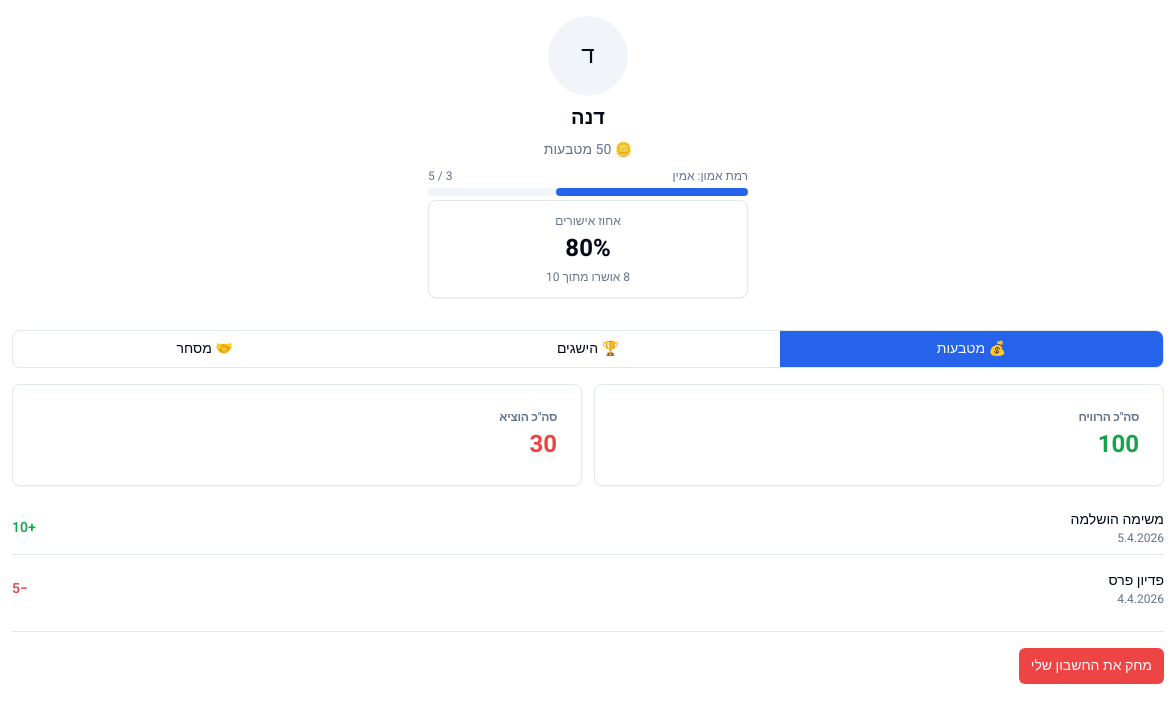
Test: ProfilePage › shows achievements summary when achievements tab clicked
The width and height of the screenshot is (1176, 720).
Step 1. Click the tab "🏆 הישגים" → (588, 349), box 396,331 -> 780,367
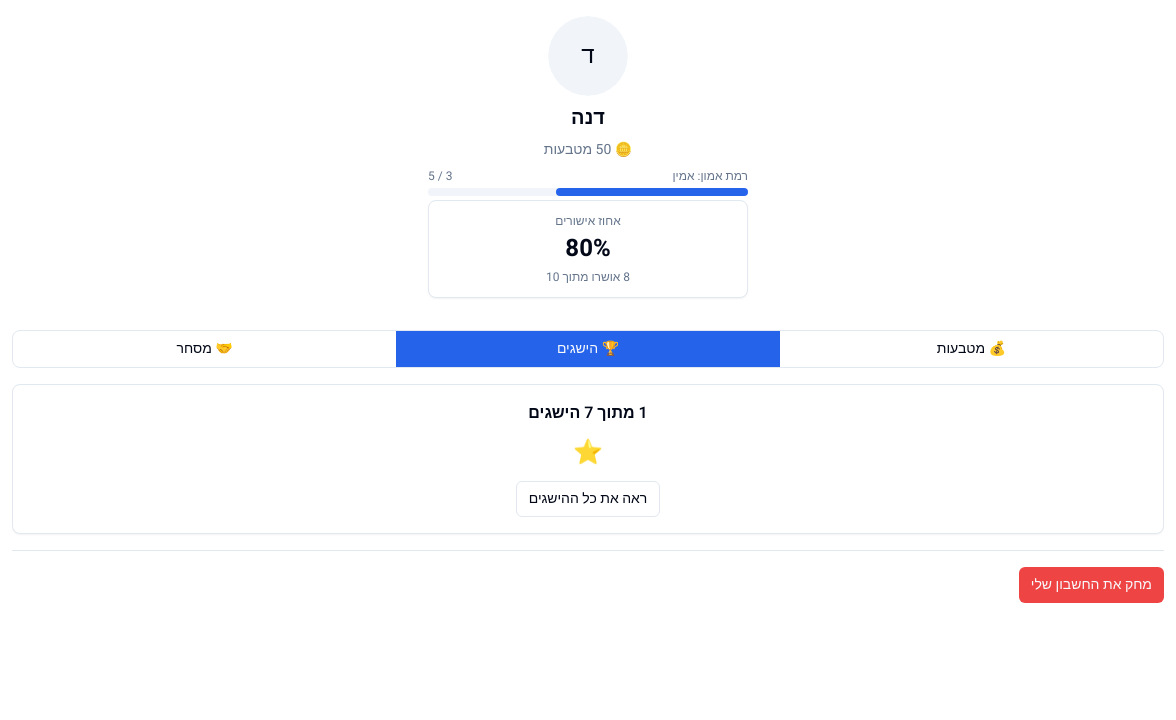
expect the text "1 מתוך 7 הישגים" is shown: met, box 528,401 -> 648,425
expect the link "ראה את כל ההישגים" is shown: met, box 516,481 -> 660,517
